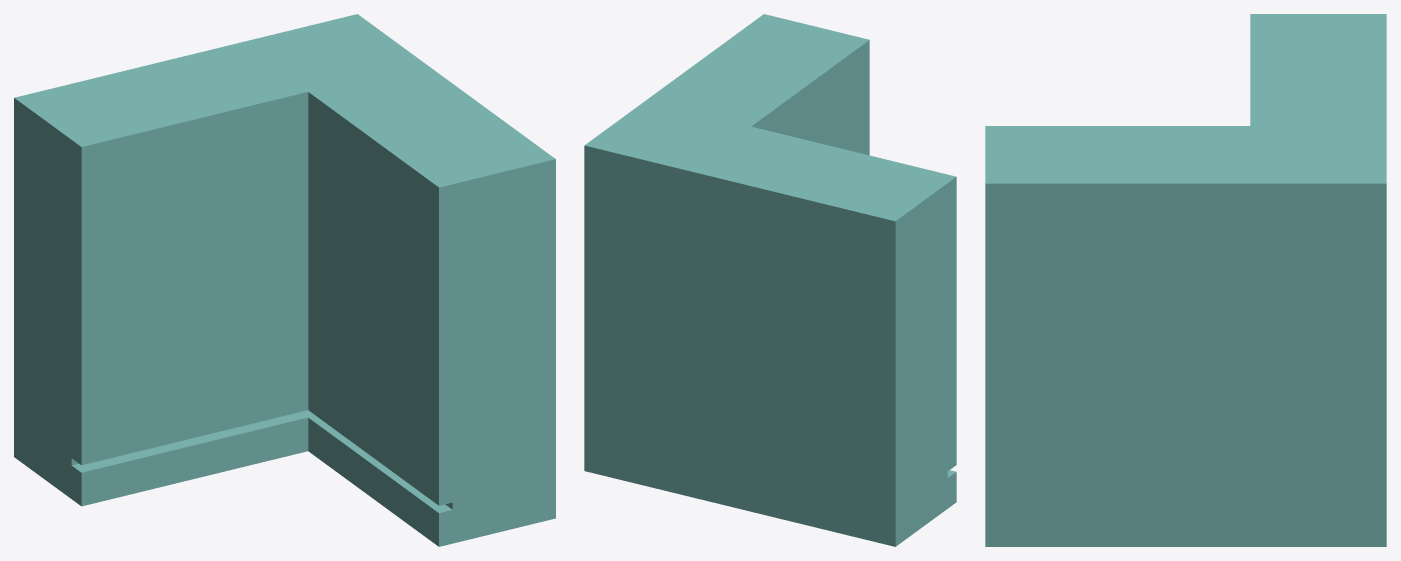
Rendered from EspacioInicialEsquinaCierreExteriorNS.gltf.
The picture shows the model from 3 angles, left to right: view 1: azimuth 30°, elevation 25°; view 2: azimuth 150°, elevation 25°; view 3: azimuth 270°, elevation 25°; orthographic projection. The views are drawn at different scales.
Visible parts, largest first — view 1: Pared nivel 2.16; view 2: Pared nivel 2.16; view 3: Pared nivel 2.16.
Boxes of the visible parts, <box> form: Pared nivel 2.16: <box>14,14,555,546</box>; Pared nivel 2.16: <box>584,14,956,546</box>; Pared nivel 2.16: <box>985,14,1386,546</box>.
Bounding box in the file's own units: 2 × 2 × 2.
